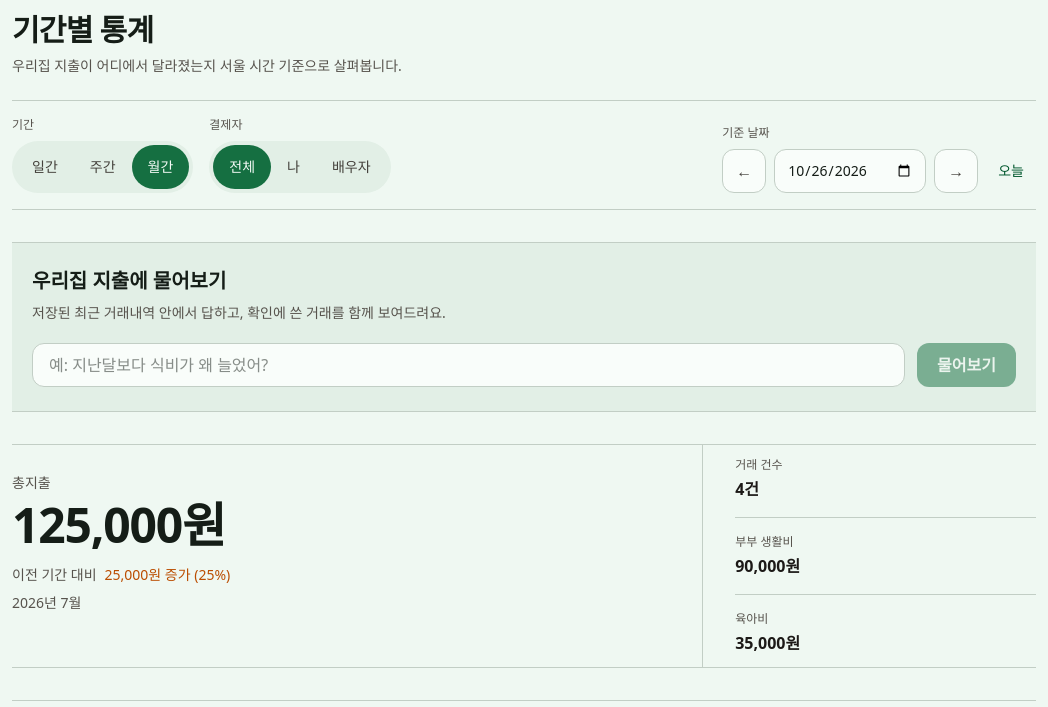
SpendingStatisticsPanel › asks a free-form question and shows evidence transactions
Expected: the text "총지출" is shown, [12,473,51,492]
Step 1. Type "식비가 왜 늘었어?" into the field named "가계 지출 질문" → (469, 365), box [32,343,905,387]
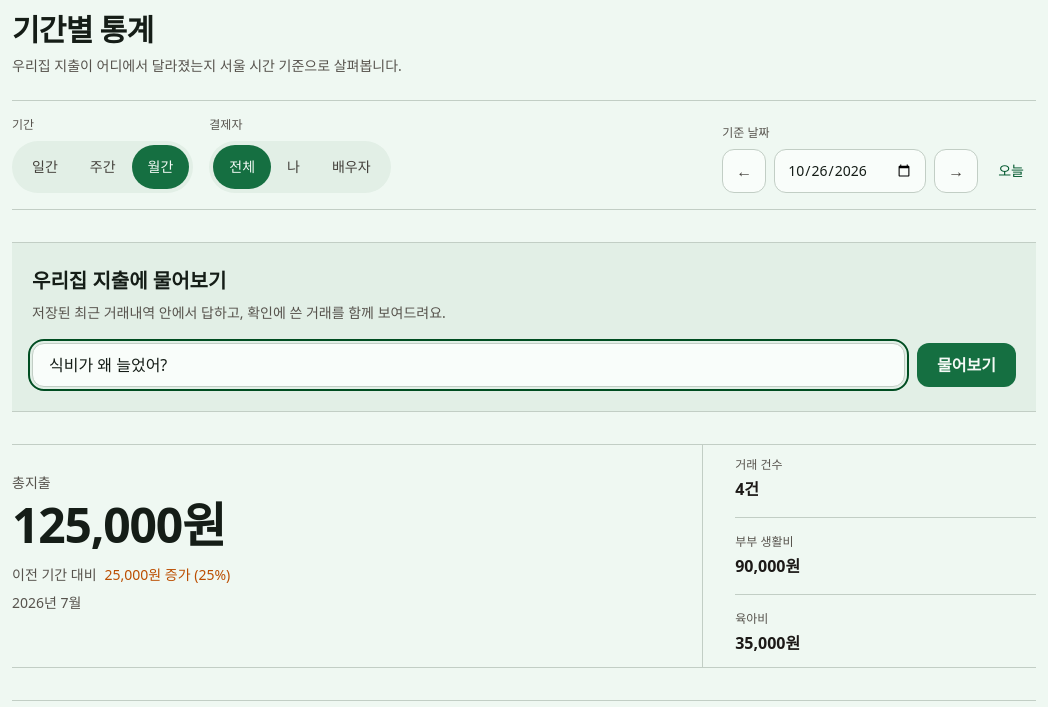
Step 2. Click the button "물어보기" → (967, 365), box [917,343,1016,387]
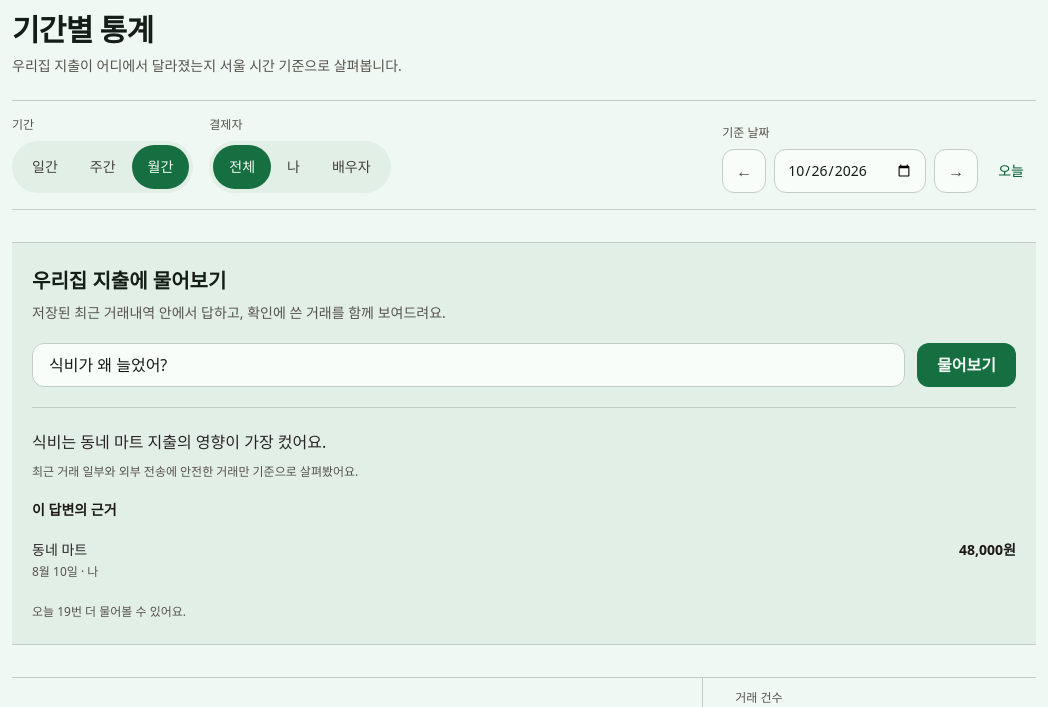
Expected: the text "식비는 동네 마트 지출의 영향이 가장 컸어요." is shown, [32,431,326,453]
Expected: the heading "이 답변의 근거" is shown, [32,500,117,519]
Expected: the text "동네 마트" is shown, [32,540,87,559]
